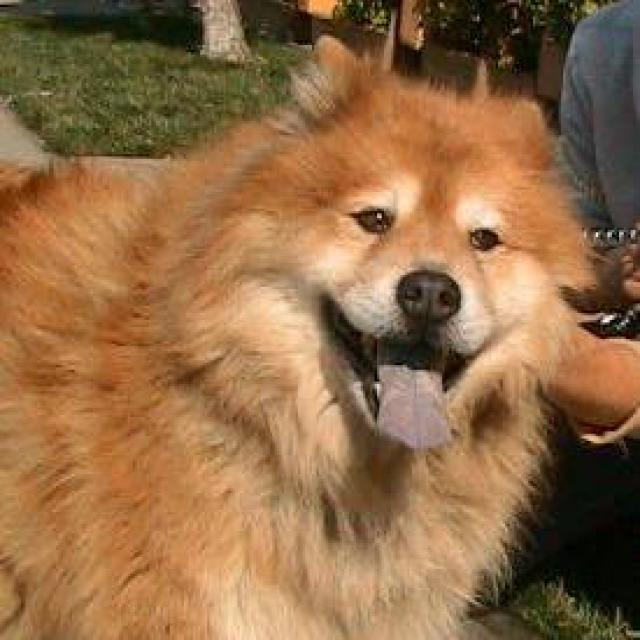dogs: (0, 66, 577, 593)
